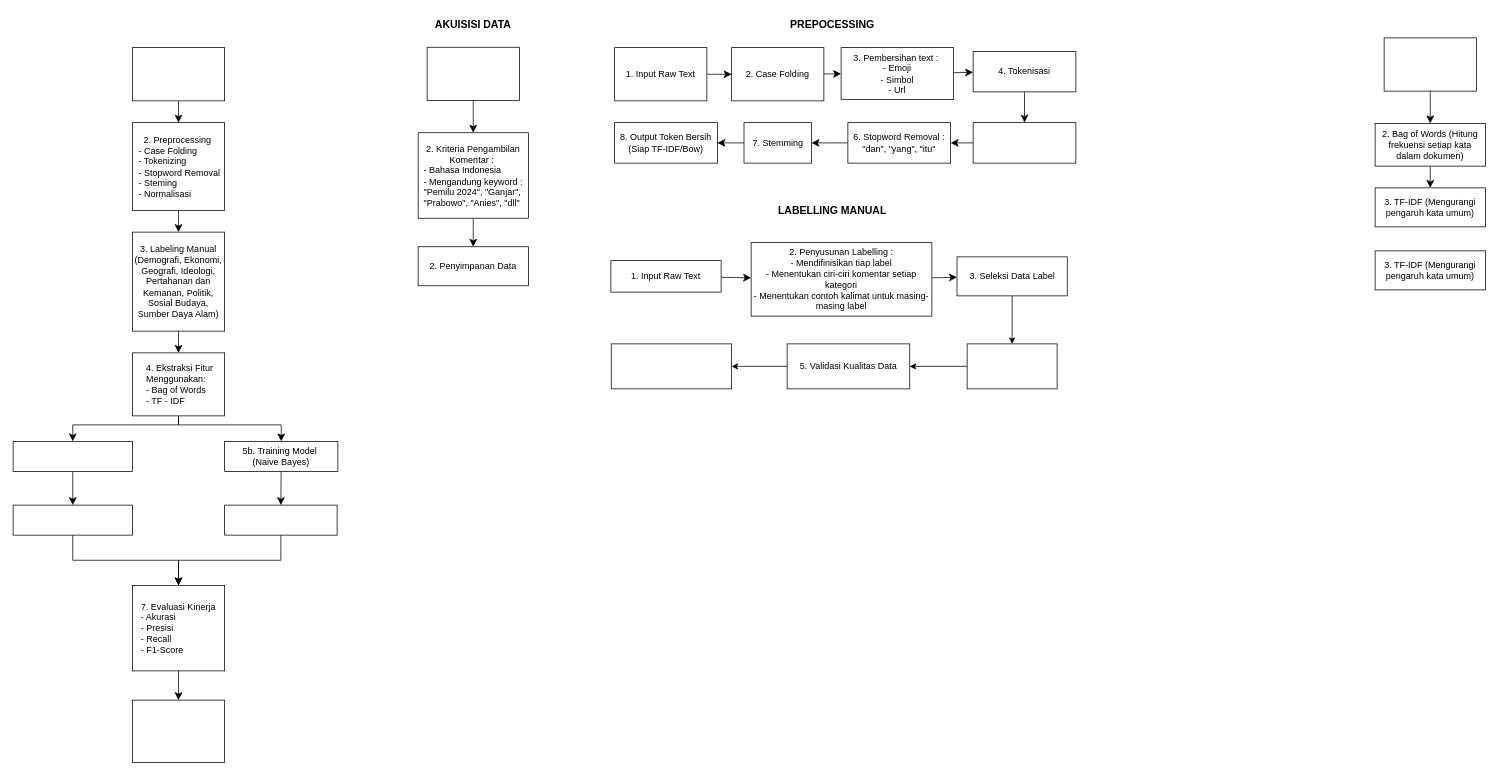
Some shapes in this 1499 by 776 pixel diagram are drawn without their labels. Each missing label, with the centre of its shape:
1. Akuisisi Data (Scraping komentar media sosial : Twiter): pixel 178 74
1. Input Hasil Preprocessing: pixel 1429 64
1. Menentukan Platform (Twiter): pixel 472 73
4.Labelling Manual: pixel 1011 366
5. Normalisasi: pixel 1024 142
5a. Training Model (SVM): pixel 72 456
6. Penyimpanan Dataset: pixel 671 366
6a. Pengujian & Validasi (SVM): pixel 72 519
6b. Pengujian & Validasi (Naive Bayes): pixel 280 519
8. Analisis Perbandingan dan Penarikan Kesimpulan: pixel 178 730
